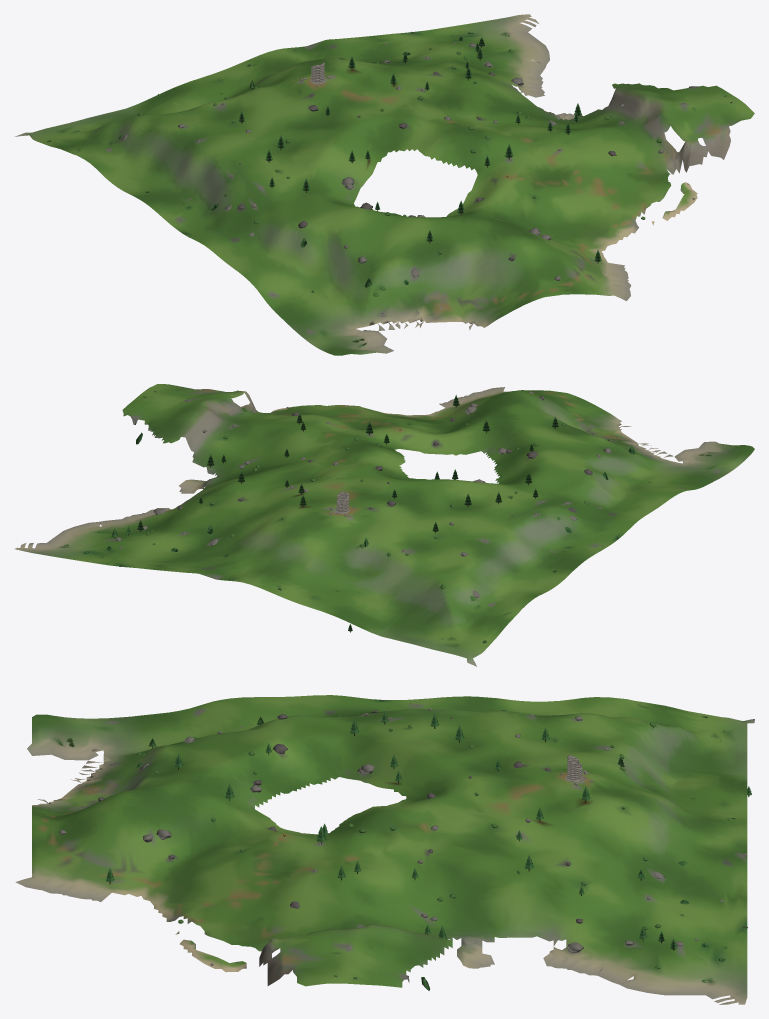
Rendered from arch_isl_gullhaven_lod1.glb.
3 views of the same model, one above another, from view 1: azimuth 30°, elevation 25°; view 2: azimuth 150°, elevation 25°; view 3: azimuth 270°, elevation 25° (orthographic). The views are drawn at different scales.
Parts seen in each view (by area): view 1: arch_isl_gullhaven_lod1; view 2: arch_isl_gullhaven_lod1; view 3: arch_isl_gullhaven_lod1.
Boxes of the visible parts, bbox=[...] form: arch_isl_gullhaven_lod1: bbox=[14, 14, 754, 355]; arch_isl_gullhaven_lod1: bbox=[15, 384, 754, 666]; arch_isl_gullhaven_lod1: bbox=[15, 695, 754, 1004].
Bounding box in the file's own units: 344 × 46.13 × 352.
